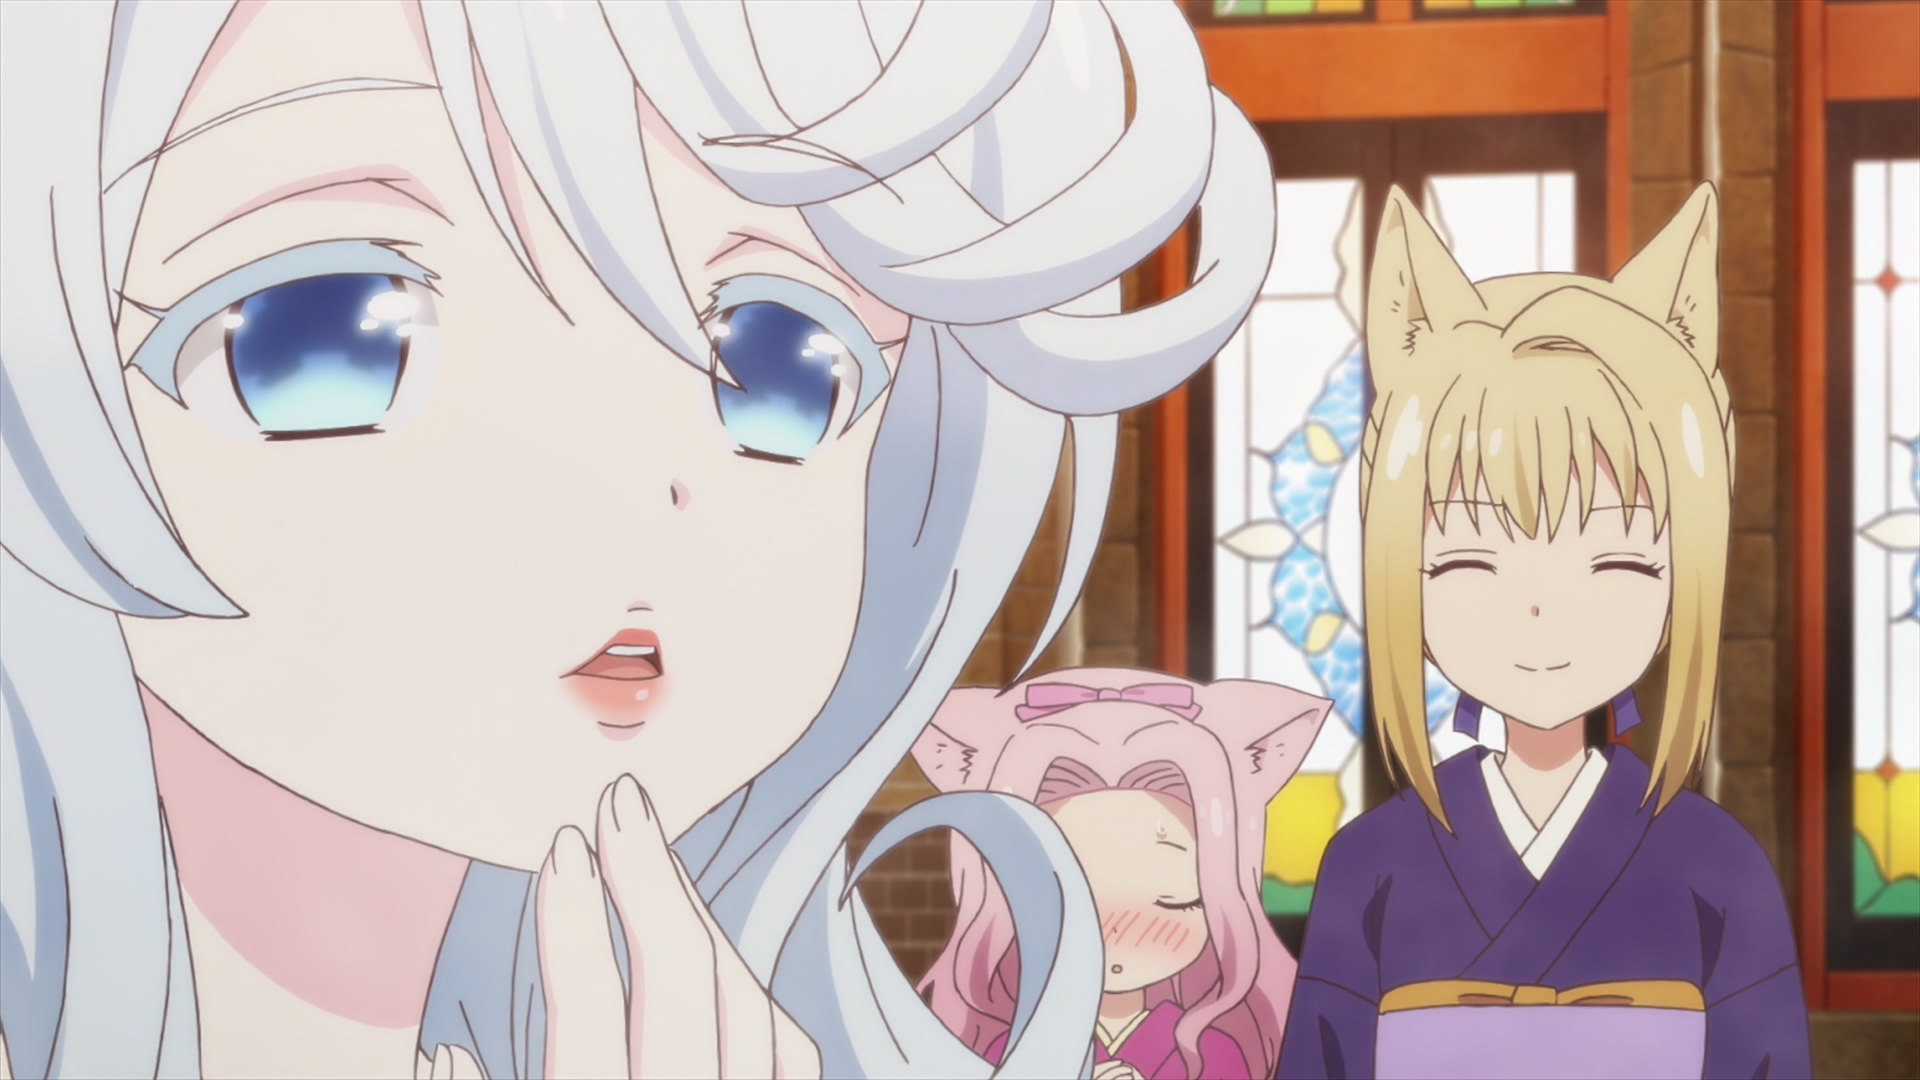其他: (1, 1, 1276, 1080)
桐: (1275, 179, 1809, 1080)
莲: (909, 665, 1333, 1080)
